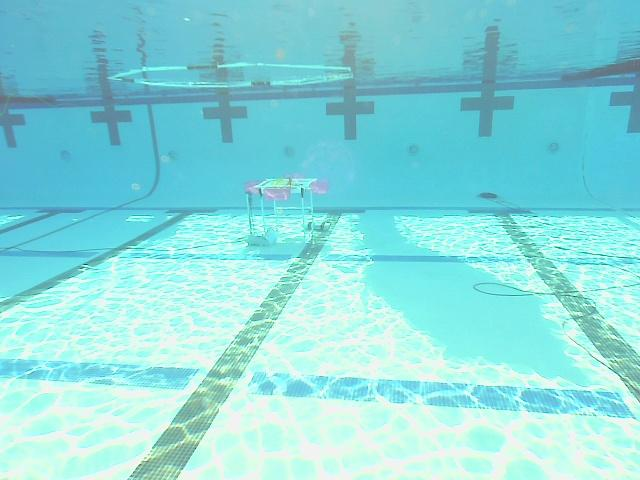table: (244, 173, 330, 247)
